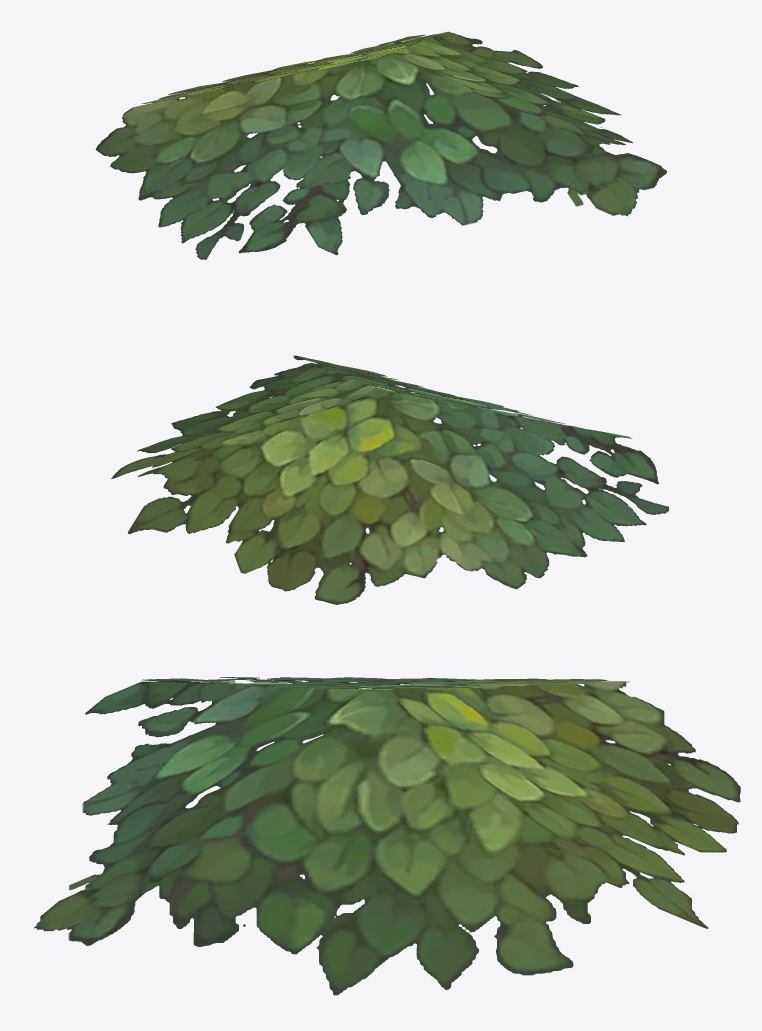
File: Map_Choose_tree05.FBX
3 views of the same model, one above another, from view 1: azimuth 30°, elevation 25°; view 2: azimuth 150°, elevation 25°; view 3: azimuth 270°, elevation 25° (orthographic). The views are drawn at different scales.
Visible parts, largest first — view 1: Map_Choose_tree05; view 2: Map_Choose_tree05; view 3: Map_Choose_tree05.
Boxes of the visible parts, x1,y1,x2,y2 form: Map_Choose_tree05: (95, 31, 666, 259); Map_Choose_tree05: (111, 355, 668, 604); Map_Choose_tree05: (33, 677, 740, 995).
Size of the model in its own units: 56.82 by 12.1 by 51.81.
Materials: 1 (1 with a texture image).
